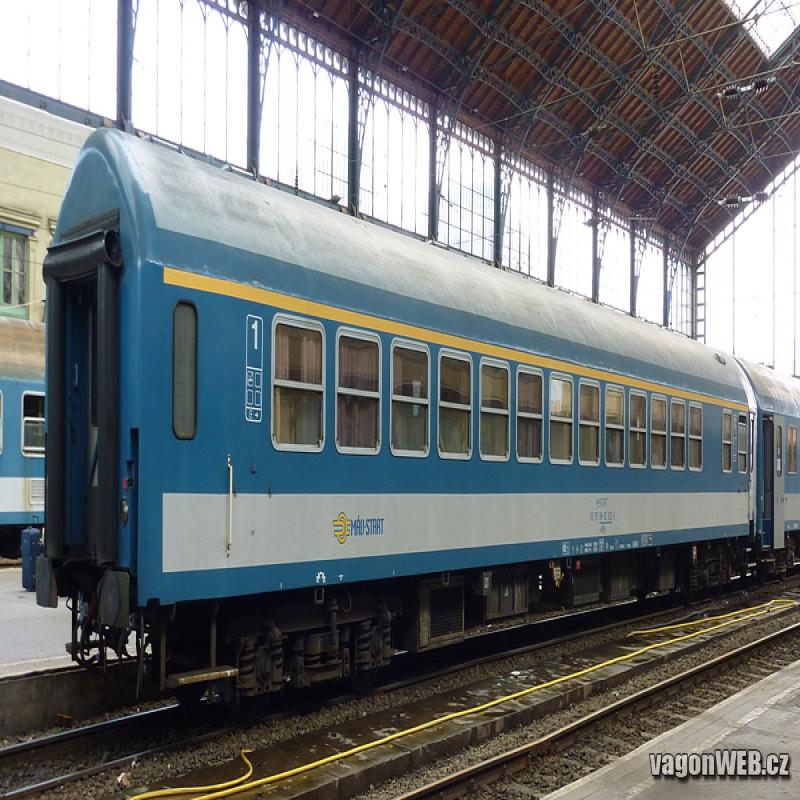train: (40, 127, 759, 746)
